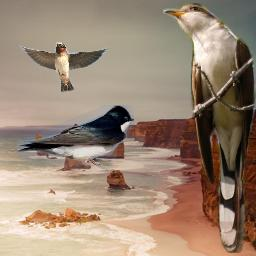Cuckoo: (163, 3, 256, 253)
Swallow: (17, 105, 134, 170), (18, 42, 109, 92)
